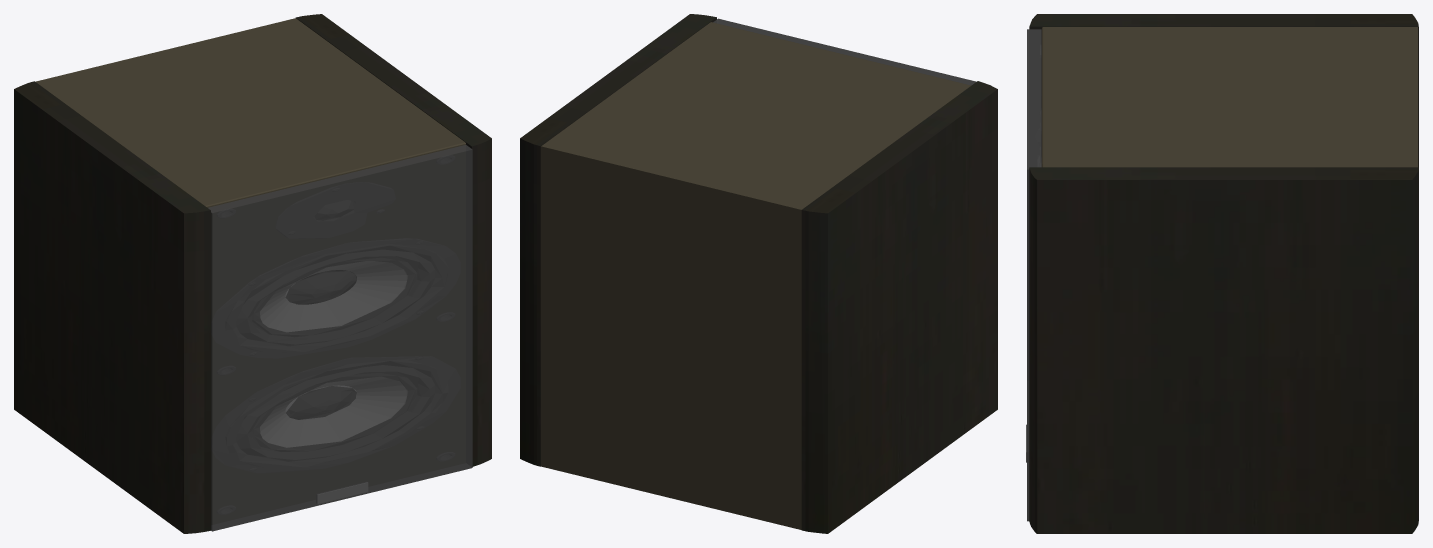
The model's file is sh-bs0-speaker3.glb.
3 views of the same model, side by side, from view 1: azimuth 30°, elevation 25°; view 2: azimuth 150°, elevation 25°; view 3: azimuth 270°, elevation 25° (orthographic). The views are drawn at different scales.
Visible parts, largest first — view 1: front_panel.002_Cube.006, sides.002_Cube.007, body.002_Cube.009, logo.002_Cube.010, low_freq_speaker.002_Circle.009; view 2: body.002_Cube.009, sides.002_Cube.007, front_panel.002_Cube.006; view 3: sides.002_Cube.007, body.002_Cube.009, front_panel.002_Cube.006.
Boxes of the visible parts, x1,y1,x2,y2 form: front_panel.002_Cube.006: (208, 145, 472, 531); sides.002_Cube.007: (14, 14, 491, 533); body.002_Cube.009: (35, 18, 465, 523); logo.002_Cube.010: (211, 156, 455, 514); low_freq_speaker.002_Circle.009: (260, 261, 406, 446); body.002_Cube.009: (541, 22, 970, 529); sides.002_Cube.007: (520, 14, 997, 533); front_panel.002_Cube.006: (713, 18, 976, 85); sides.002_Cube.007: (1029, 14, 1418, 533); body.002_Cube.009: (1041, 27, 1417, 167); front_panel.002_Cube.006: (1027, 29, 1041, 521).
Size of the model in its own units: 1 by 1 by 1.
6 materials, 1 textured.
